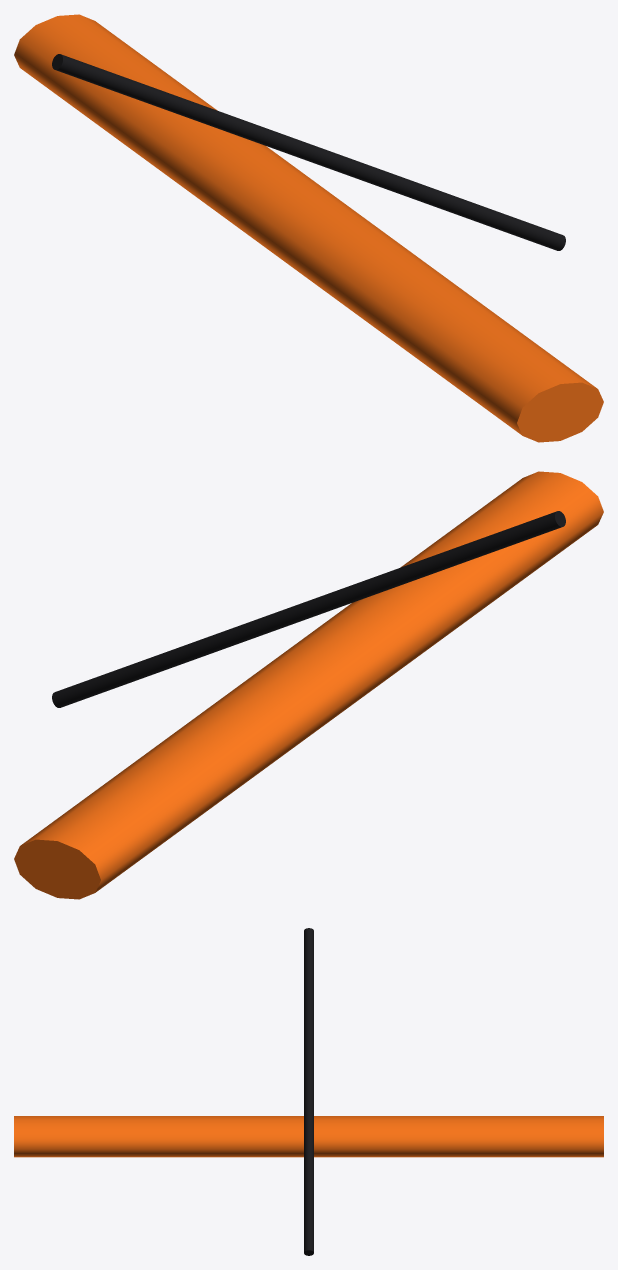
Rendered from kayak.glb.
The picture shows the model from 3 angles, top to bottom: view 1: azimuth 30°, elevation 25°; view 2: azimuth 150°, elevation 25°; view 3: azimuth 270°, elevation 25°; orthographic projection. The views are drawn at different scales.
Size of the model in its own units: 0.5857 by 0.3478 by 1.
